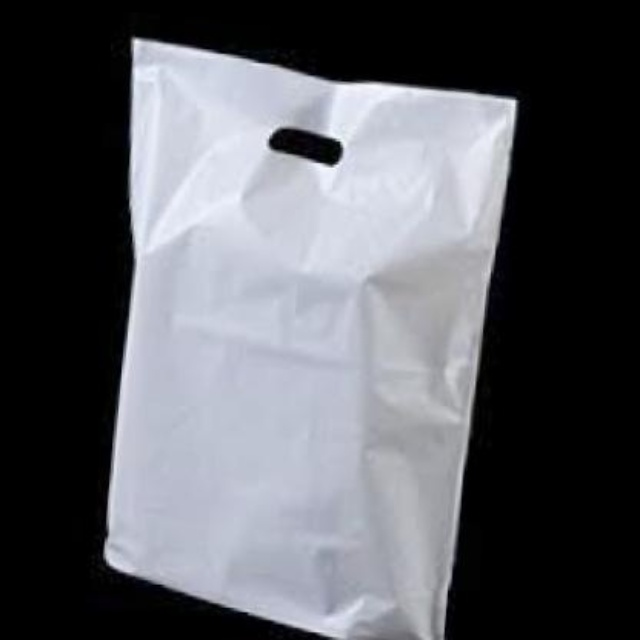trash: (106, 38, 514, 638)
